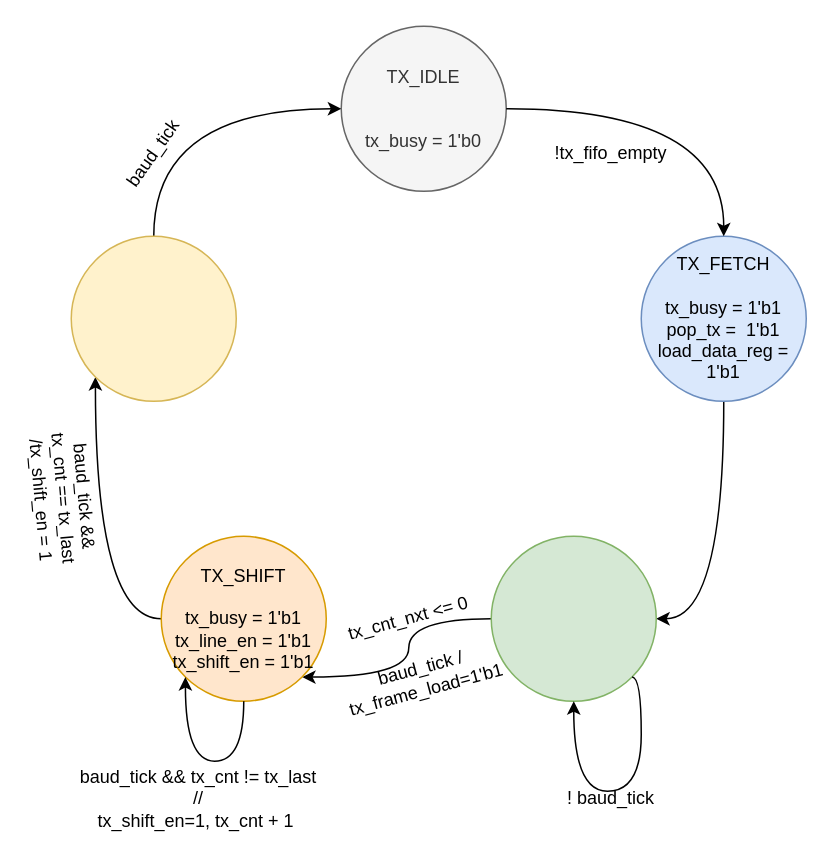
Some shapes in this 833 by 857 pixel diagram are drawn without their labels. The centre of each missing label's shape, as x and y in pixels:
"TX_STOP tx_busy = 1'b1 tx_line_en = 1'b1" belongs at point (153, 318).
"TX_SYNC tx_busy = 1'b1" belongs at point (573, 618).
